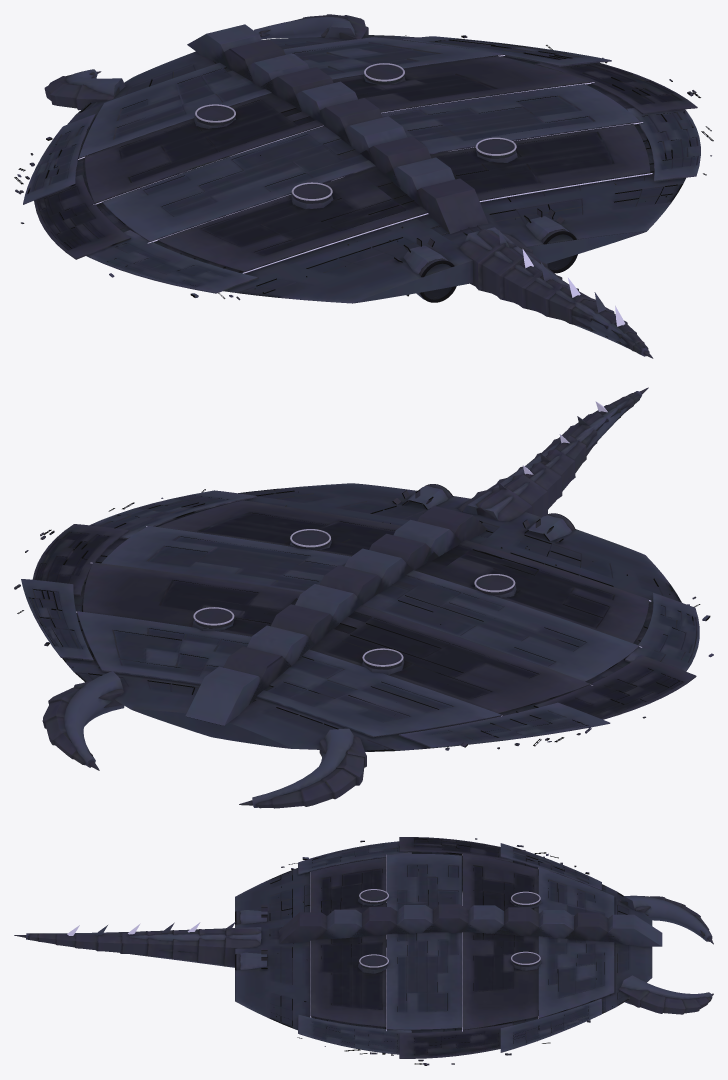
The model's file is void_mantle_hero.glb.
3 views of the same model, one above another, from view 1: azimuth 30°, elevation 25°; view 2: azimuth 150°, elevation 25°; view 3: azimuth 270°, elevation 25° (orthographic). The views are drawn at different scales.
Visible parts, largest first — view 1: HullBaked; view 2: HullBaked; view 3: HullBaked.
Part boxes in pixels (box(x1,y1,x2,y2)): HullBaked: box(14, 14, 713, 358); HullBaked: box(14, 387, 713, 808); HullBaked: box(14, 837, 713, 1065).
Bounding box in the file's own units: 238 × 29.17 × 310.
Materials: 1 (1 with a texture image).
